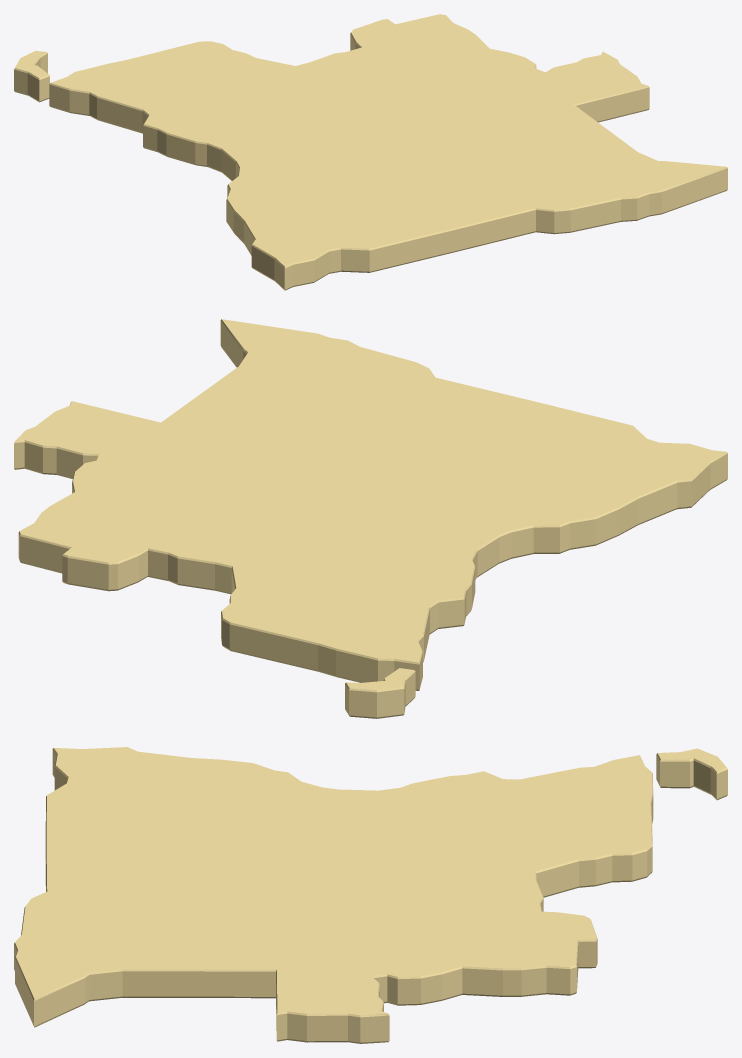
Rendered from AGO.glb.
The picture shows the model from 3 angles, top to bottom: view 1: azimuth 30°, elevation 25°; view 2: azimuth 150°, elevation 25°; view 3: azimuth 270°, elevation 25°; orthographic projection. The views are drawn at different scales.
Bounding box in the file's own units: 1.37 × 0.068 × 1.54.
